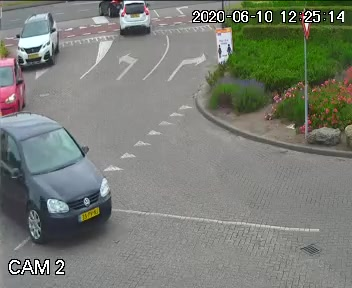car: (0, 117, 131, 249), (24, 6, 63, 63), (117, 0, 164, 36), (0, 58, 27, 115), (93, 0, 139, 19)
